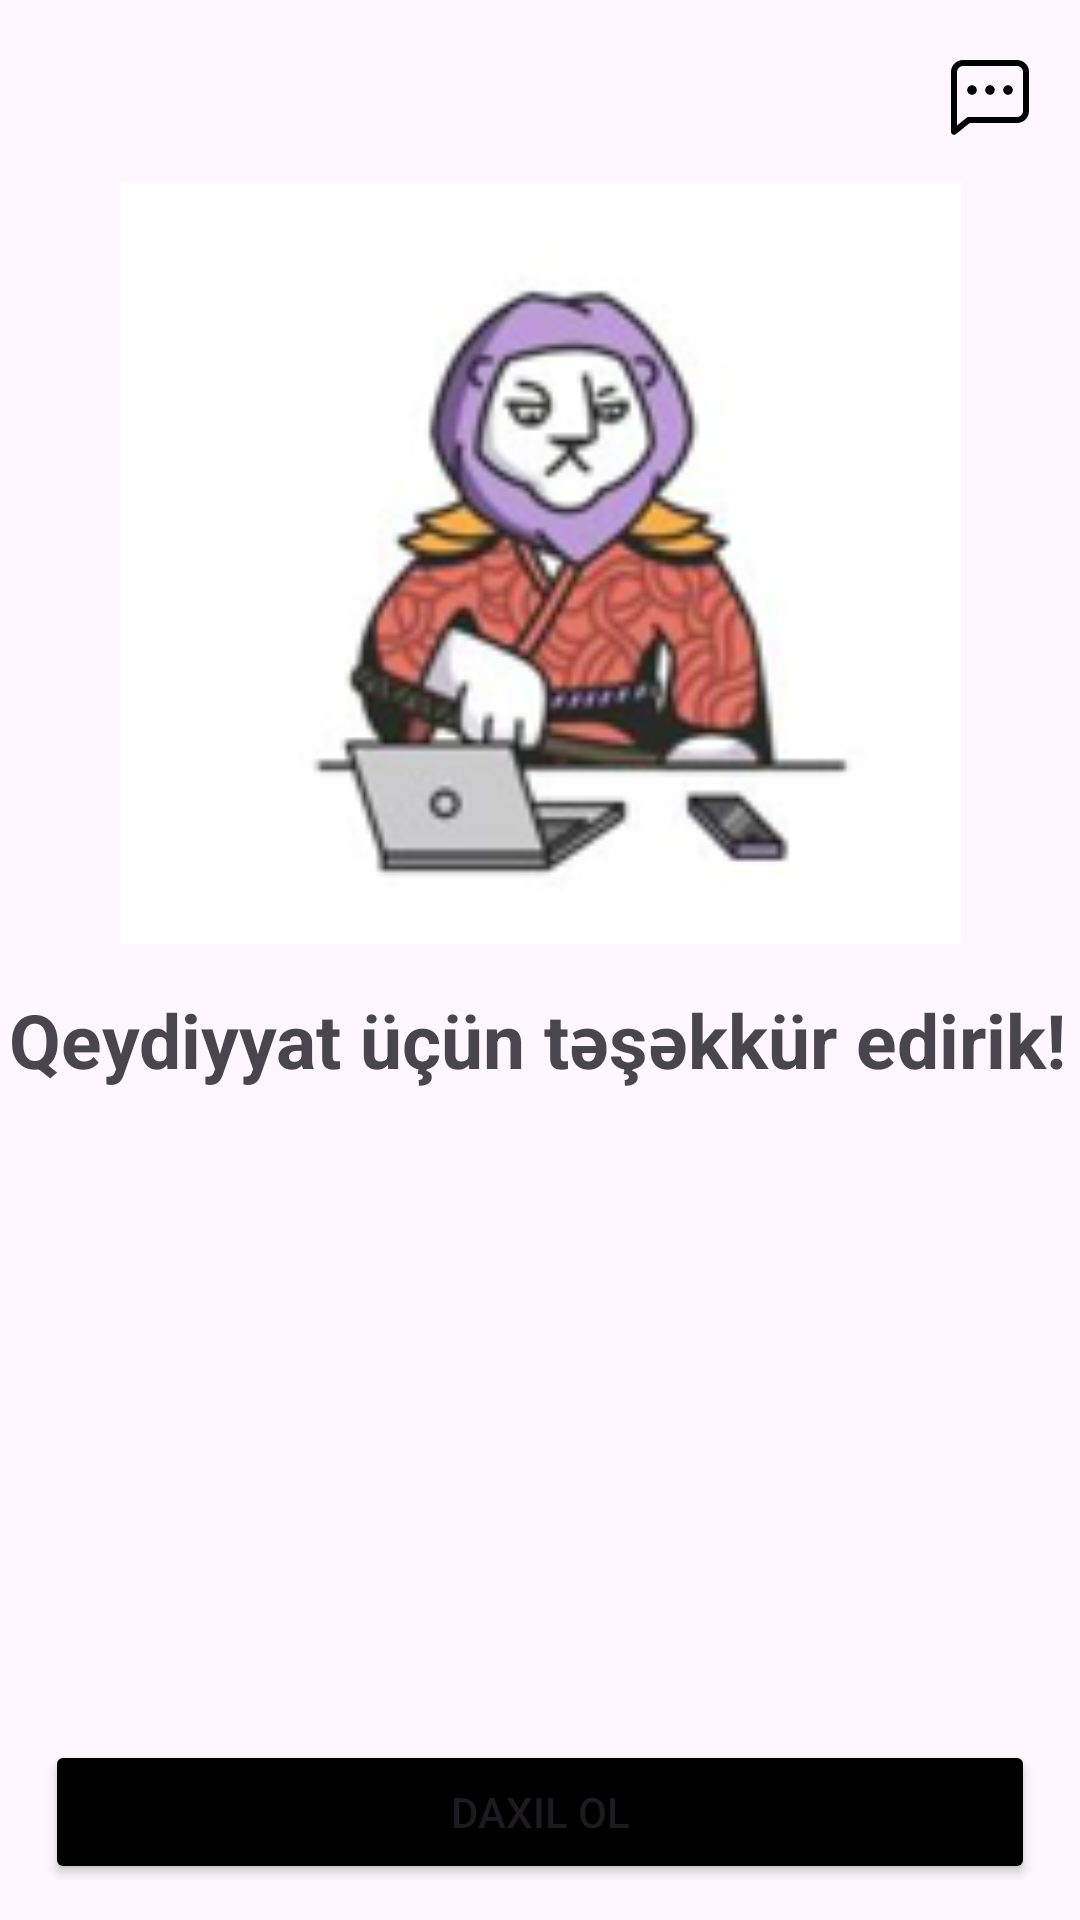

Where to tap for icons on this 1080px×1920px app screen, as point (x, y):
chat: point (990, 97)
